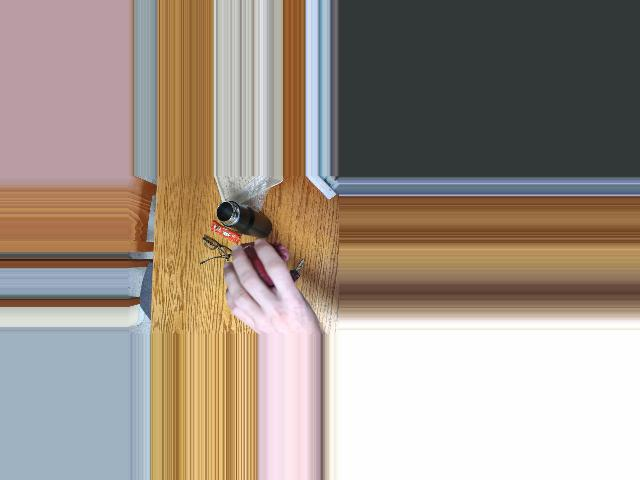onion: (231, 252, 288, 297)
